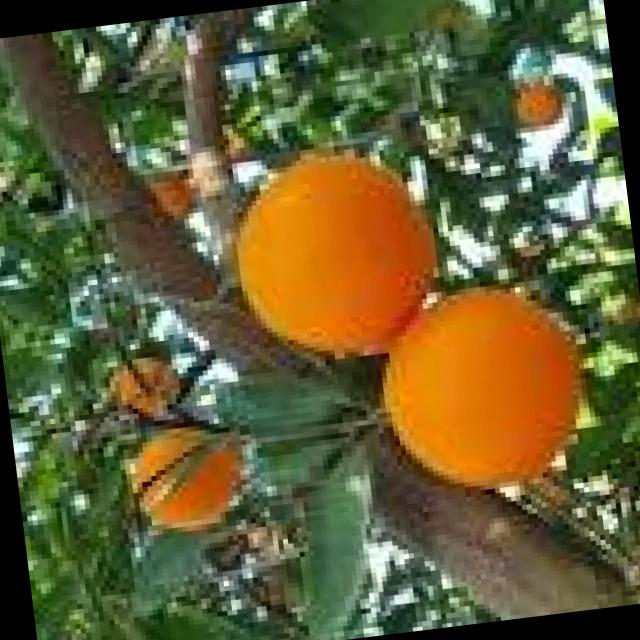orange: (235, 156, 436, 353), (382, 288, 578, 485), (129, 426, 240, 529), (110, 355, 186, 417), (512, 82, 561, 126)
